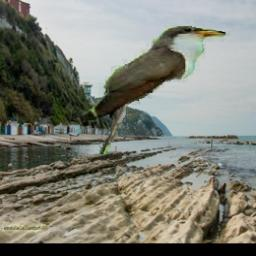Cuckoo: (78, 26, 230, 155)
